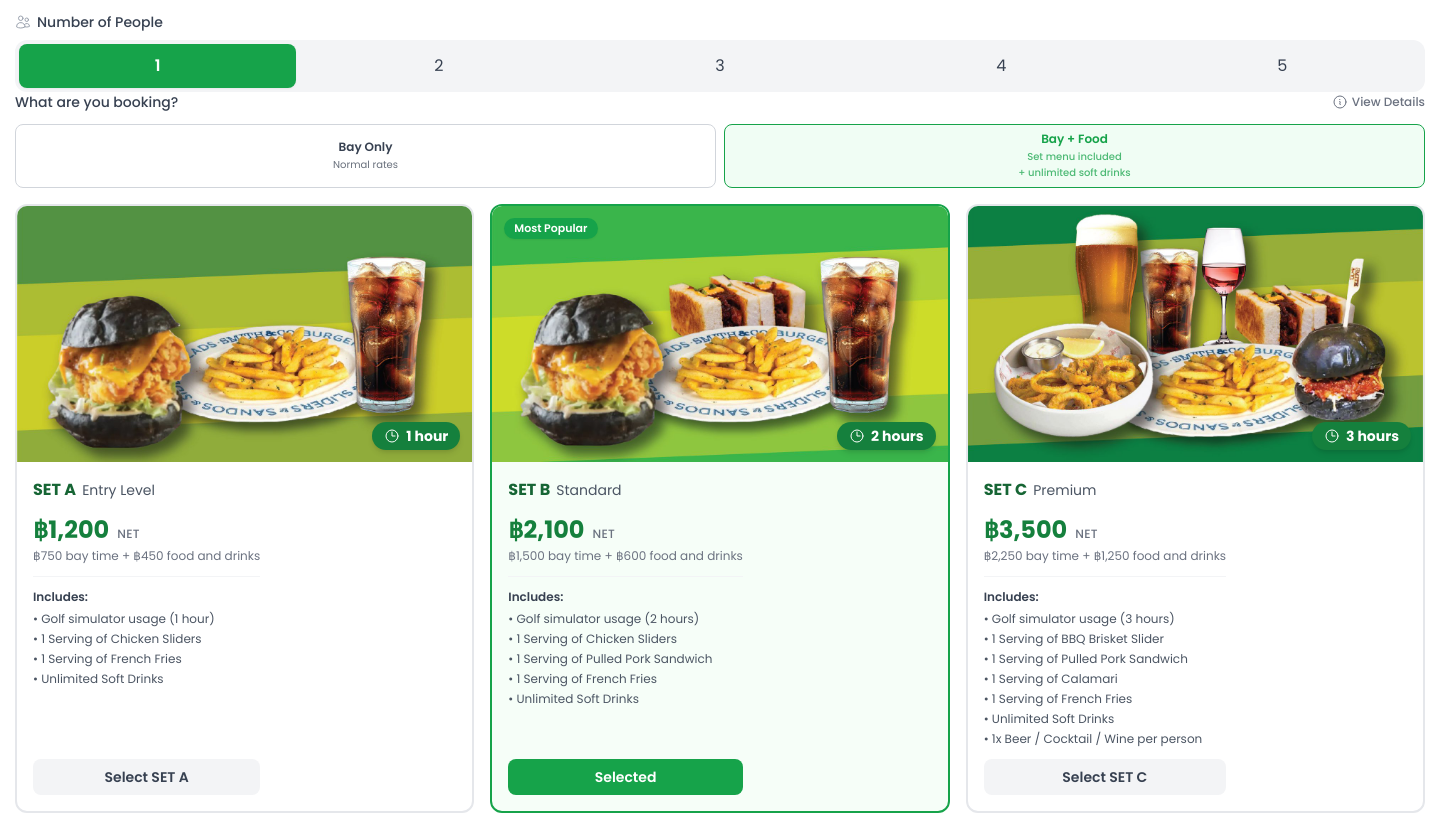
Test case: the people picker › reads the cap off the selected set rather than hardcoding five
The image size is (1440, 822).
Expected: the button "1" is shown, [19,44,296,88]
Expected: the button "2" is shown, [300,44,577,88]
Click the button "3": (720, 66) [581,44,859,88]
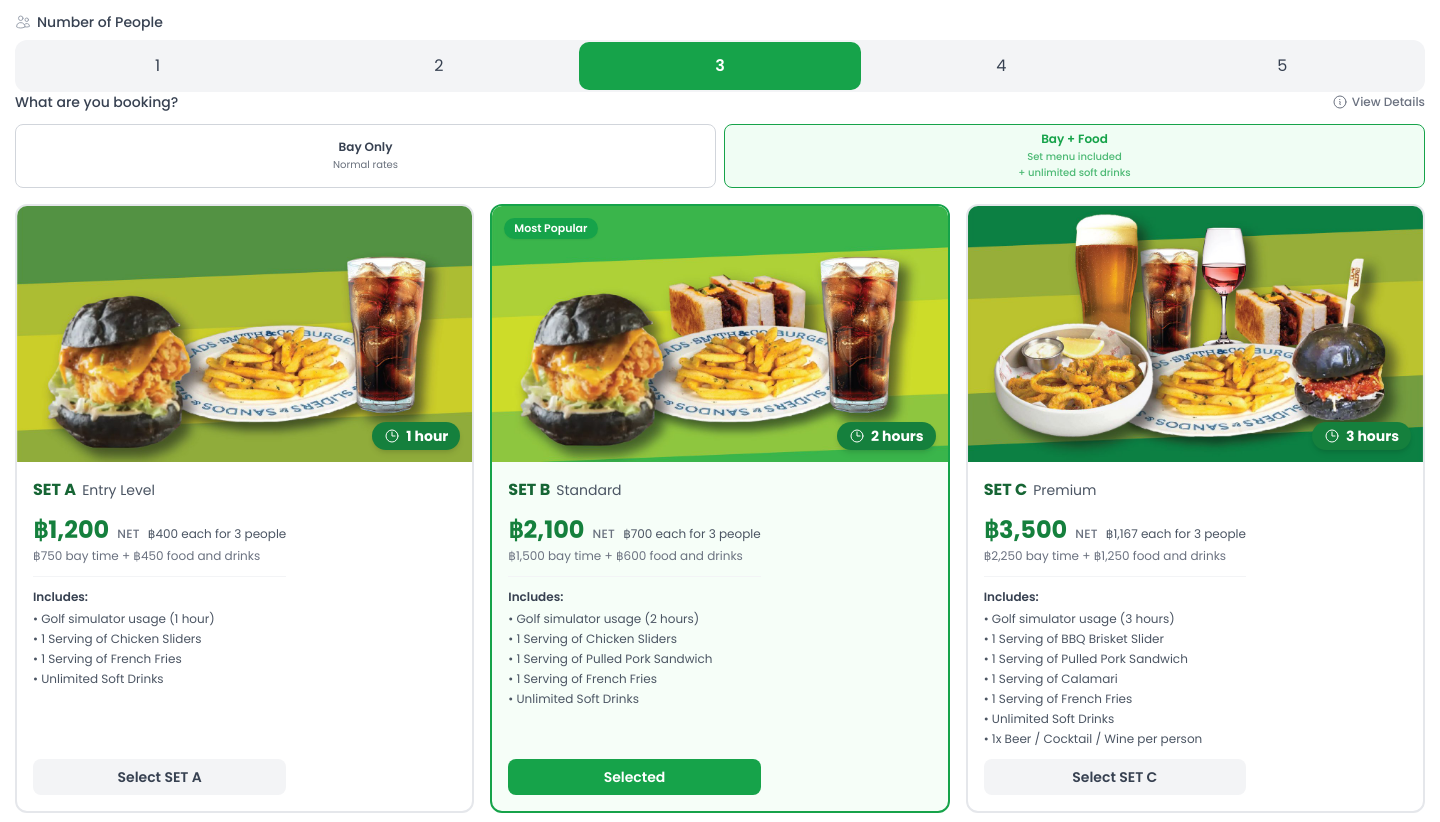
Expected: the text "฿2,100" is shown, [508,514,584,546]
Now the text "฿700 each for 3 people" is shown, box [623,526,761,542]
